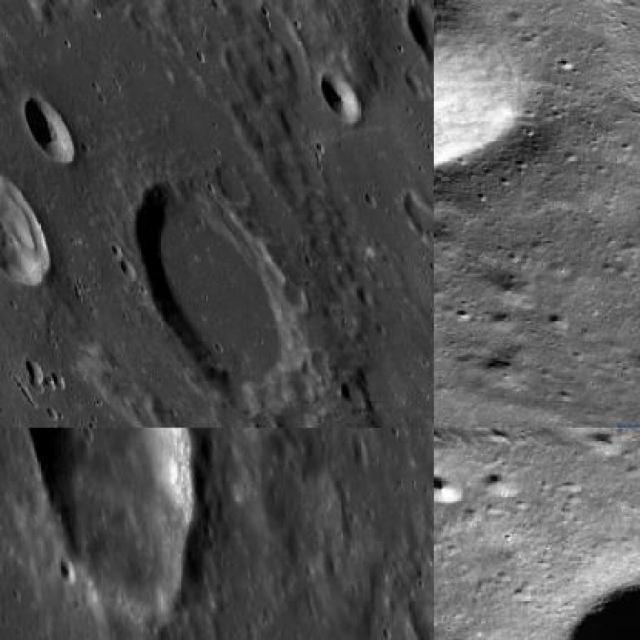crater: (17, 428, 194, 612), (136, 182, 292, 390), (434, 0, 532, 174), (0, 158, 52, 286), (21, 96, 77, 166), (320, 71, 365, 120)
